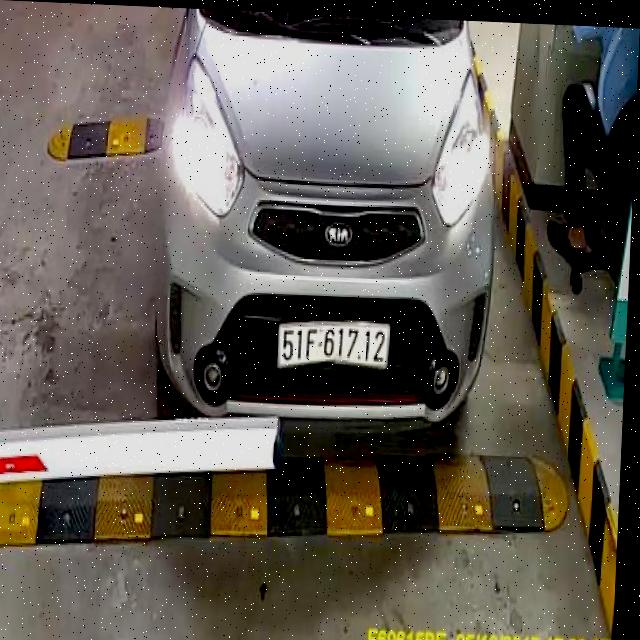car: (143, 7, 512, 450)
plate: (276, 315, 398, 371)
